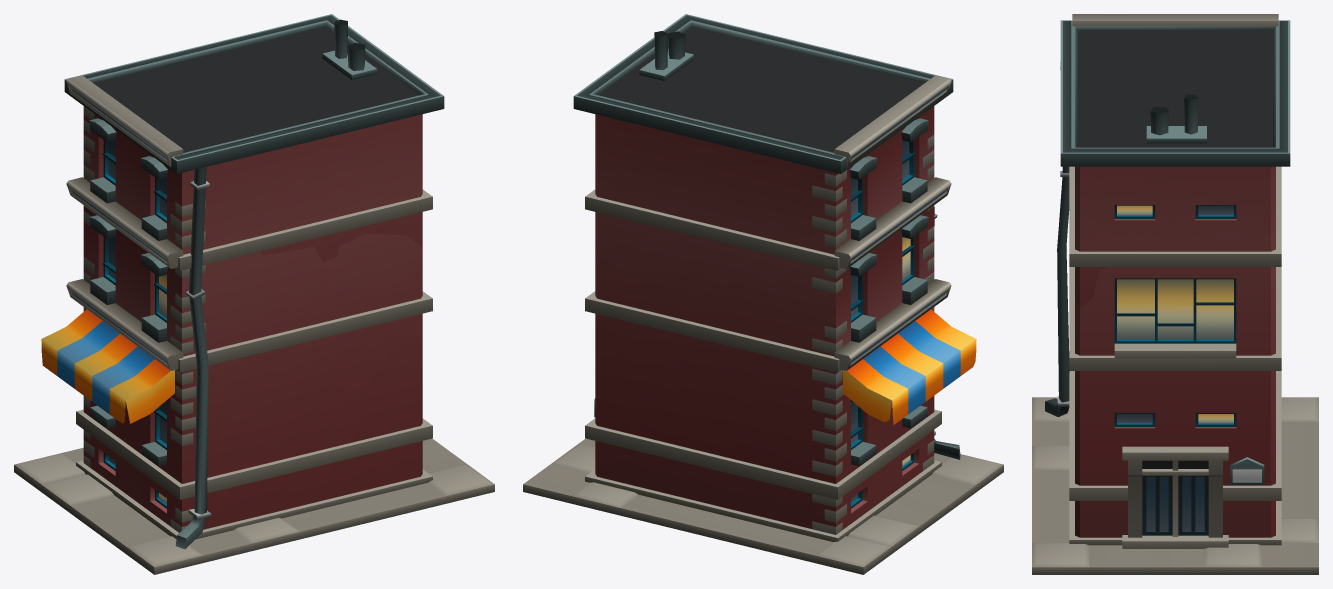
The model's file is Building_5E.fbx.
3 renders of one model, left to right at view 1: azimuth 30°, elevation 25°; view 2: azimuth 150°, elevation 25°; view 3: azimuth 270°, elevation 25°, orthographic. The views are drawn at different scales.
Parts seen in each view (by area): view 1: Building_5E, Shed_5E; view 2: Building_5E, Shed_5E; view 3: Building_5E, Window_Lights_5E.
Boxes of the visible parts, box(x1,y1,x2,y2) form: Building_5E: box(14, 14, 494, 574); Shed_5E: box(41, 309, 174, 423); Building_5E: box(523, 14, 1003, 574); Shed_5E: box(843, 309, 976, 424); Building_5E: box(1032, 14, 1318, 574); Window_Lights_5E: box(1117, 205, 1233, 423).
Bounding box in the file's own units: 1403 × 1693 × 1000.
